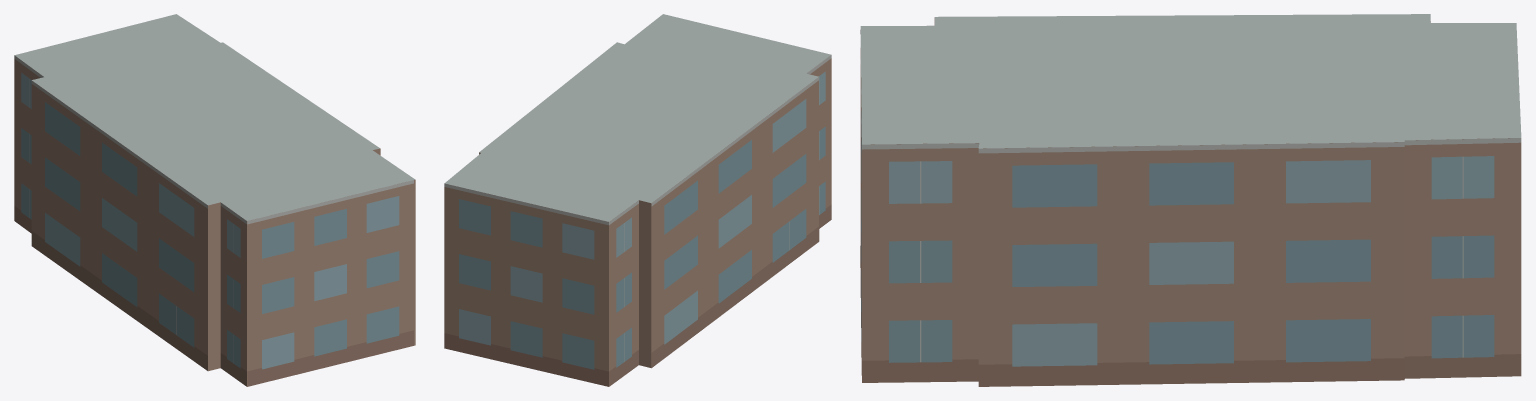
File: survey-upis-32497909.glb
3 renders of one model, left to right at view 1: azimuth 30°, elevation 25°; view 2: azimuth 150°, elevation 25°; view 3: azimuth 270°, elevation 25°, orthographic. The views are drawn at different scales.
Visible parts, largest first — view 1: survey-upis-32497909.tmp; view 2: survey-upis-32497909.tmp; view 3: survey-upis-32497909.tmp.
Boxes of the visible parts, left/top/right/bottom form: survey-upis-32497909.tmp: left=14, top=14, right=415, bottom=386; survey-upis-32497909.tmp: left=444, top=14, right=831, bottom=386; survey-upis-32497909.tmp: left=860, top=14, right=1521, bottom=386.
Bounding box in the file's own units: 14.29 × 11.8 × 29.66.
